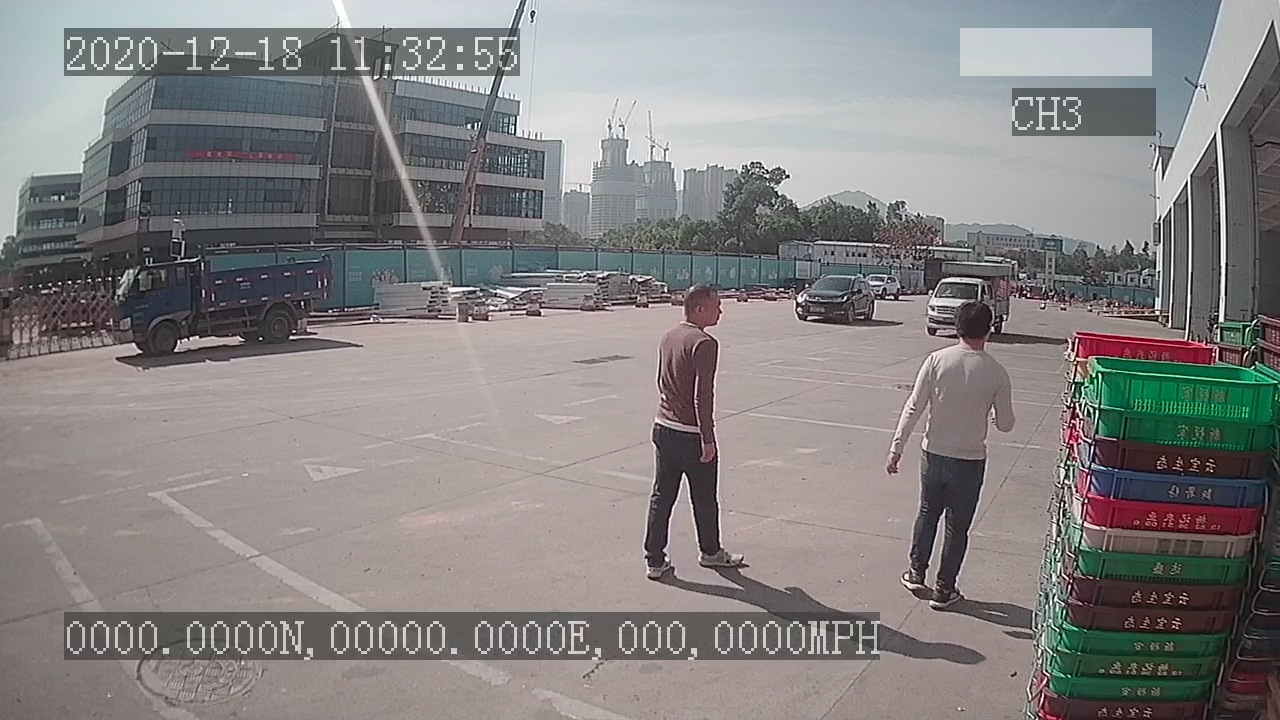person: (641, 279, 754, 578)
